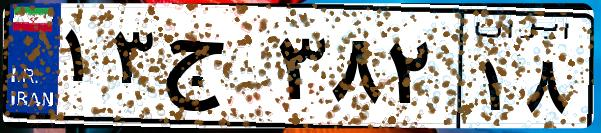1: (57, 26, 110, 100), (475, 38, 525, 113)
2: (385, 28, 445, 110)
3: (270, 28, 330, 110), (110, 28, 158, 98)
8: (330, 28, 385, 110), (525, 38, 570, 115)
ج: (158, 20, 270, 120)
